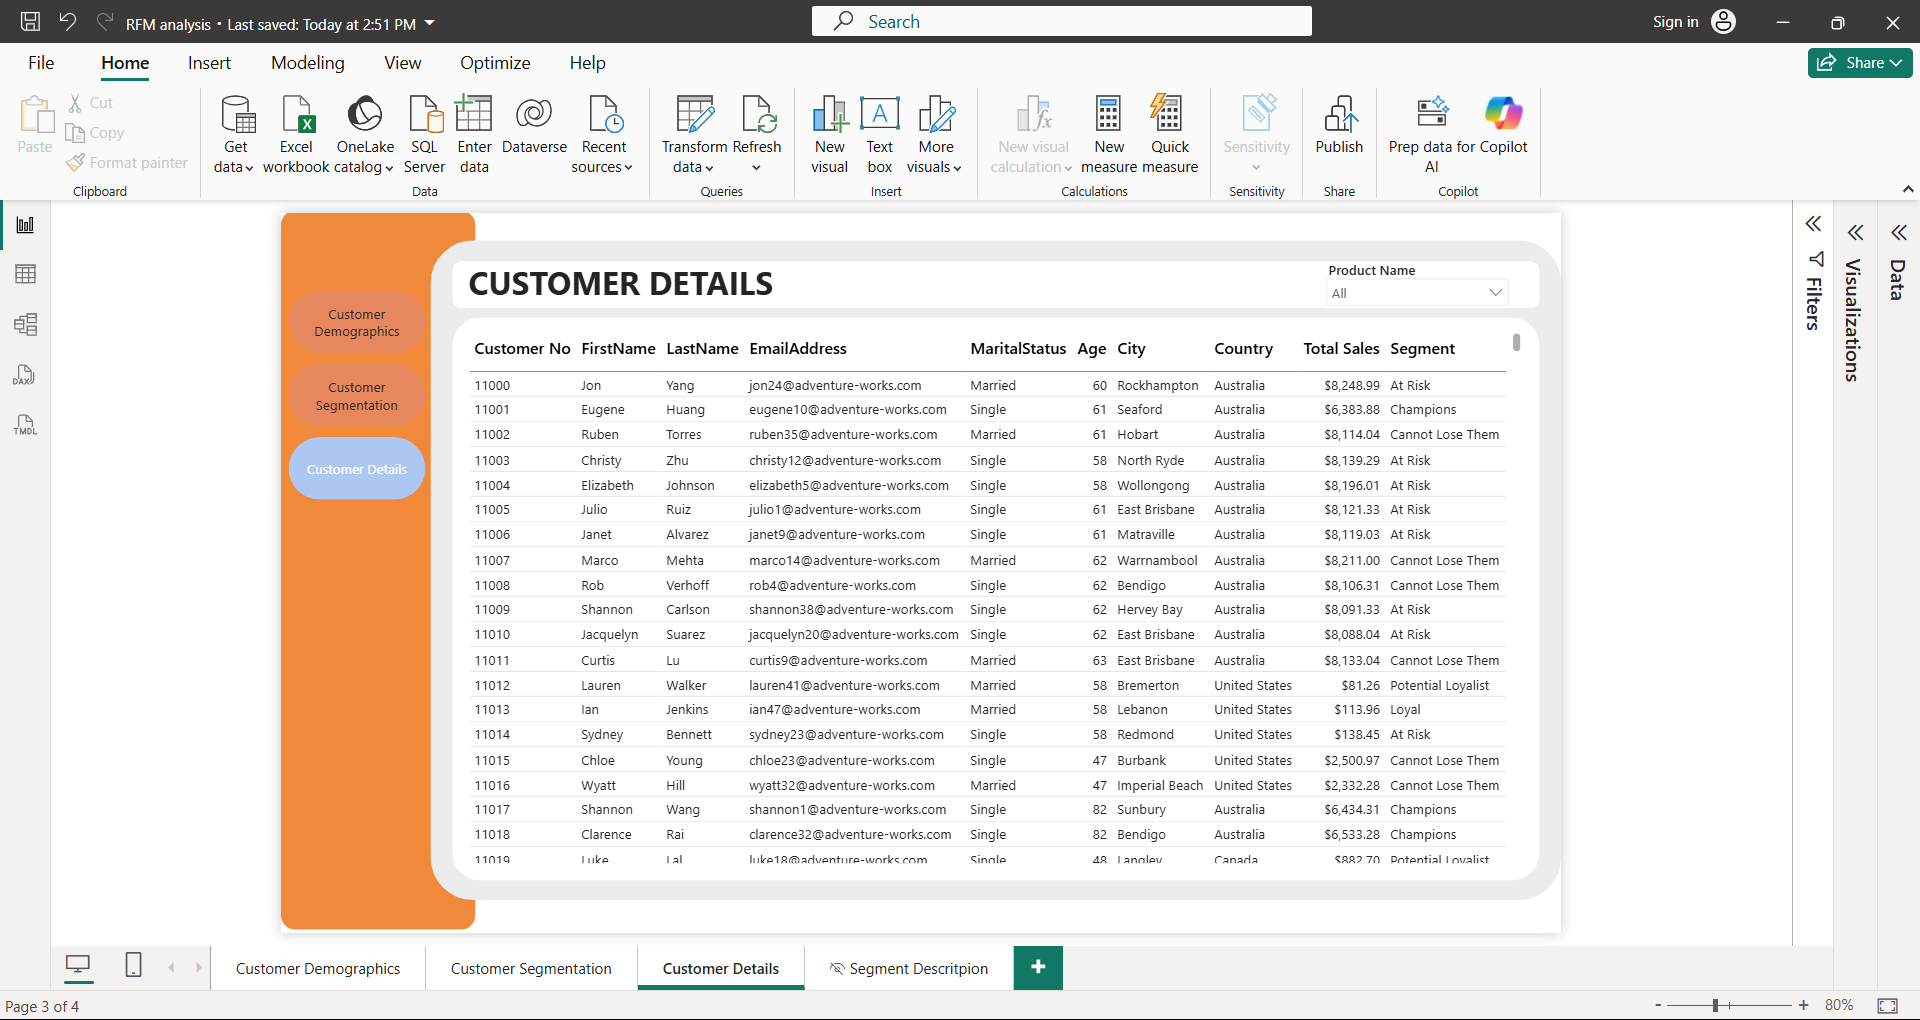

The dashboard page shown, as its layout file describes it:
{"tool":"powerbi","page":{"name":"Customer Details","canvas":[1280,720],"ordinal":2},"visuals":[{"type":"textbox","box":[182.5,42.5,542.5,52.5],"z":0},{"type":"tableEx","box":[182.5,115,1062.5,540],"z":1000},{"type":"tableEx","fields":{"Values":["DimCustomer.CustomerKey","DimCustomer.FirstName","DimCustomer.LastName","DimCustomer.EmailAddress","DimCustomer.MaritalStatus","Sum(DimCustomer.Age)","DimGeography.City","DimGeography.Country","Sum(FactInternetSales.SalesAmount)","Segment Table.Segment"]},"box":[182.5,115,1062.5,540],"z":2000},{"type":"slicer","fields":{"Values":["DimProduct.Product Name"]},"box":[1035,55,202.5,45],"z":3000},{"type":"textbox","box":[1042.5,42.5,177.5,28.8],"z":4000},{"type":"pageNavigator","box":[7.1,77.1,137.1,211.4],"z":4001}]}

Visuals, with their boxes on the page's 1280x720 design canvas (x1, y1, x2, y2). These are canvas units, not pixel positions in the 1920x1020 screenshot, which may show the page scaled, cropped or inside an application window:
textbox: box(182, 42, 725, 95)
tableEx: box(182, 115, 1245, 655)
tableEx - DimCustomer.CustomerKey x DimCustomer.FirstName: box(182, 115, 1245, 655)
slicer - DimProduct.Product Name: box(1035, 55, 1238, 100)
textbox: box(1042, 42, 1220, 71)
pageNavigator: box(7, 77, 144, 288)
